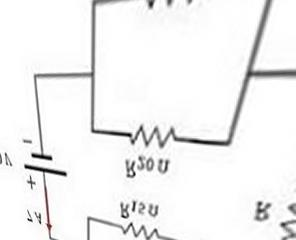resistor: (119, 107, 203, 145), (118, 215, 164, 239)
